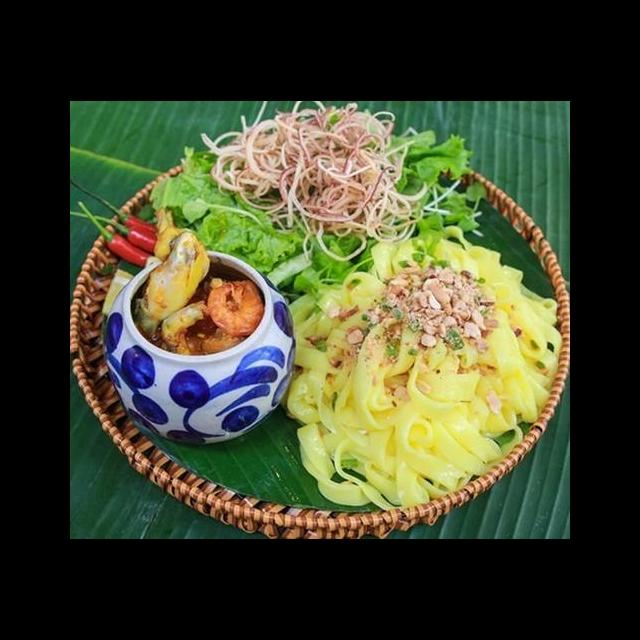mi: (269, 222, 566, 516)
tom: (202, 275, 267, 337)
